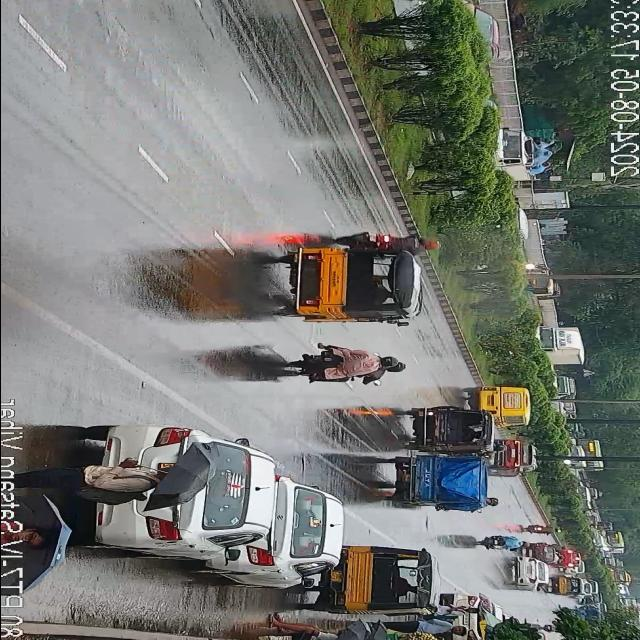2-wheelers: (284, 340, 404, 386), (340, 223, 442, 260), (476, 534, 526, 558), (448, 498, 500, 511), (526, 526, 564, 533)
auto: (266, 238, 424, 326), (321, 542, 436, 616), (385, 444, 487, 509), (408, 402, 492, 455), (550, 572, 580, 596)
bus: (466, 383, 527, 429), (572, 436, 602, 469)
car: (113, 419, 281, 559), (224, 483, 344, 587), (446, 594, 500, 640), (496, 439, 536, 476), (509, 555, 550, 591), (531, 544, 553, 560), (558, 550, 580, 566), (564, 564, 584, 574)
pedestrian: (25, 460, 178, 492), (267, 609, 359, 640), (0, 516, 44, 552), (385, 620, 467, 634), (442, 604, 480, 614)
truck: (498, 128, 552, 182)
